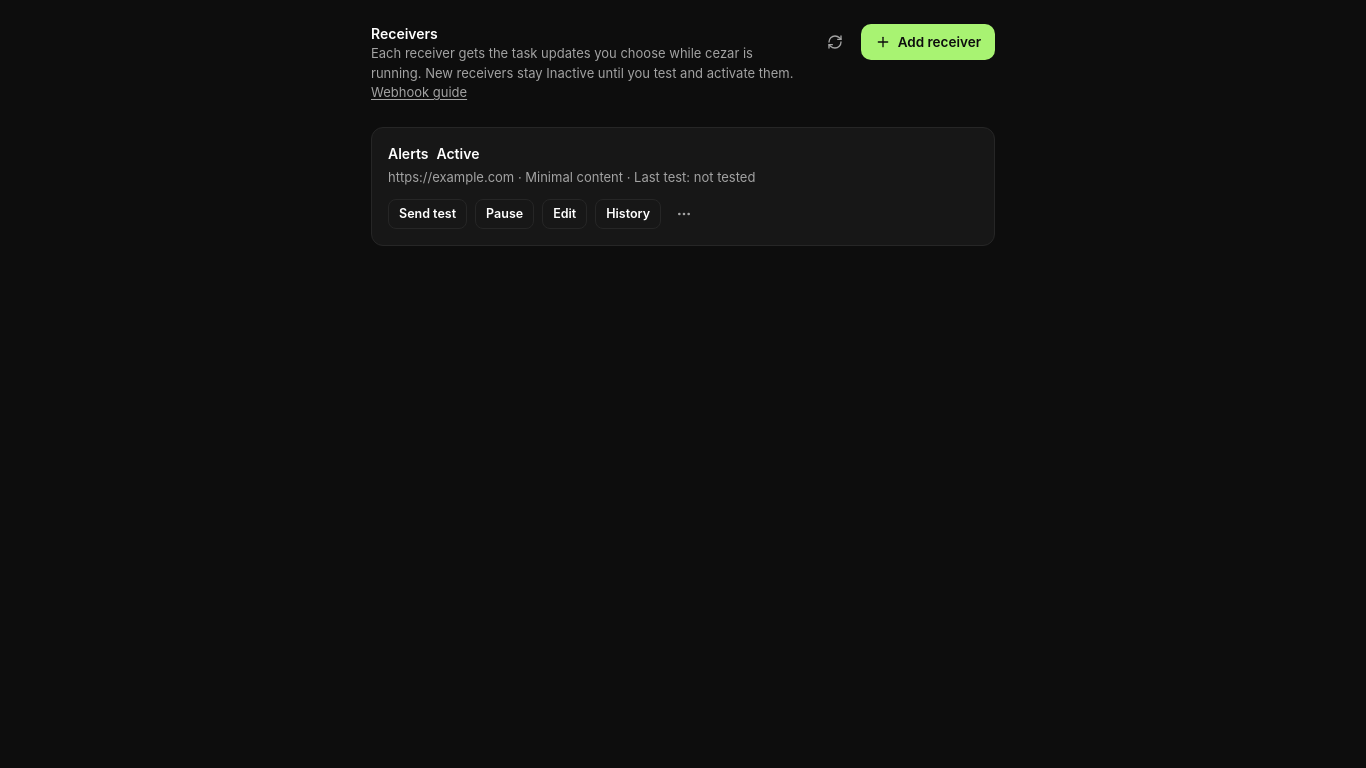
Test case: project webhook settings › shows changed field names and revision in Activity
Click the button "History". click: (628, 214)
box: left=595, top=199, right=661, bottom=229
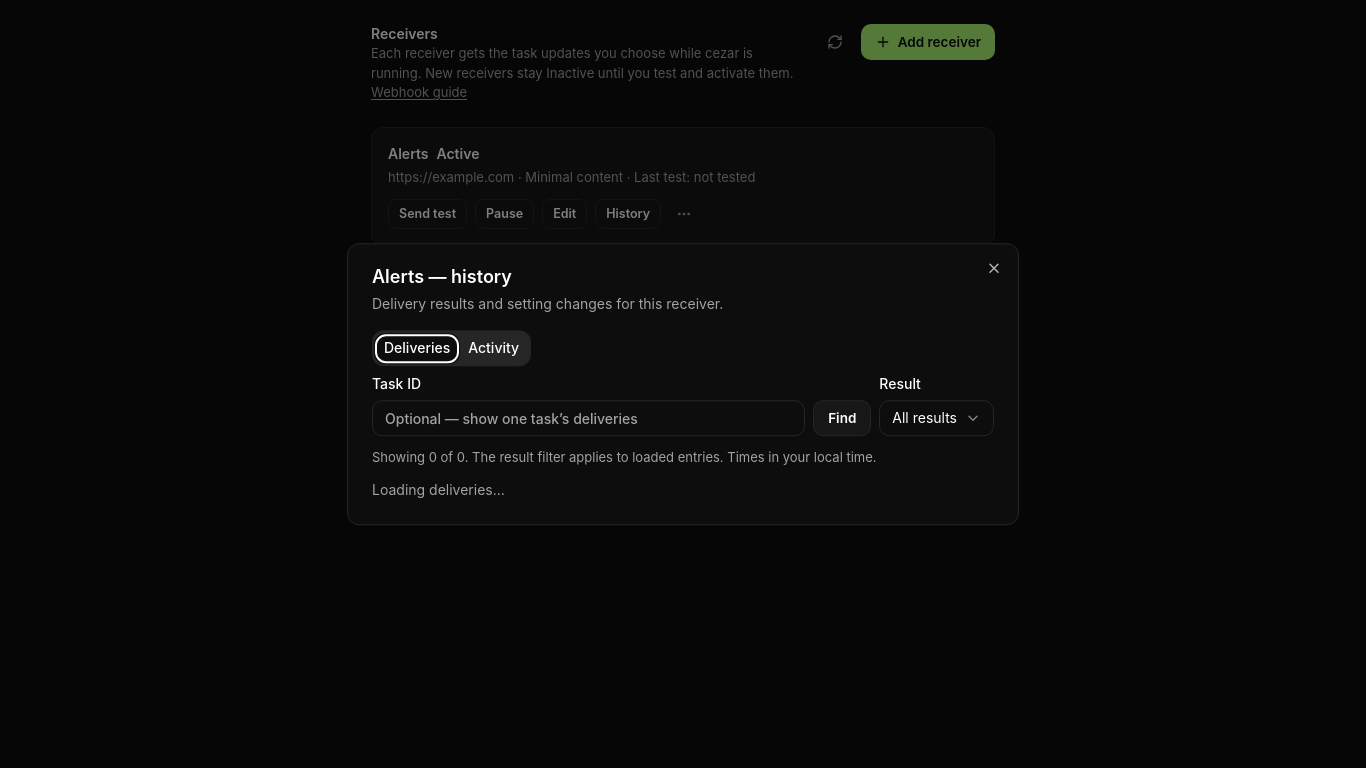
Press the mouse on the tab "Activity" at (494, 348), box left=459, top=334, right=528, bottom=363
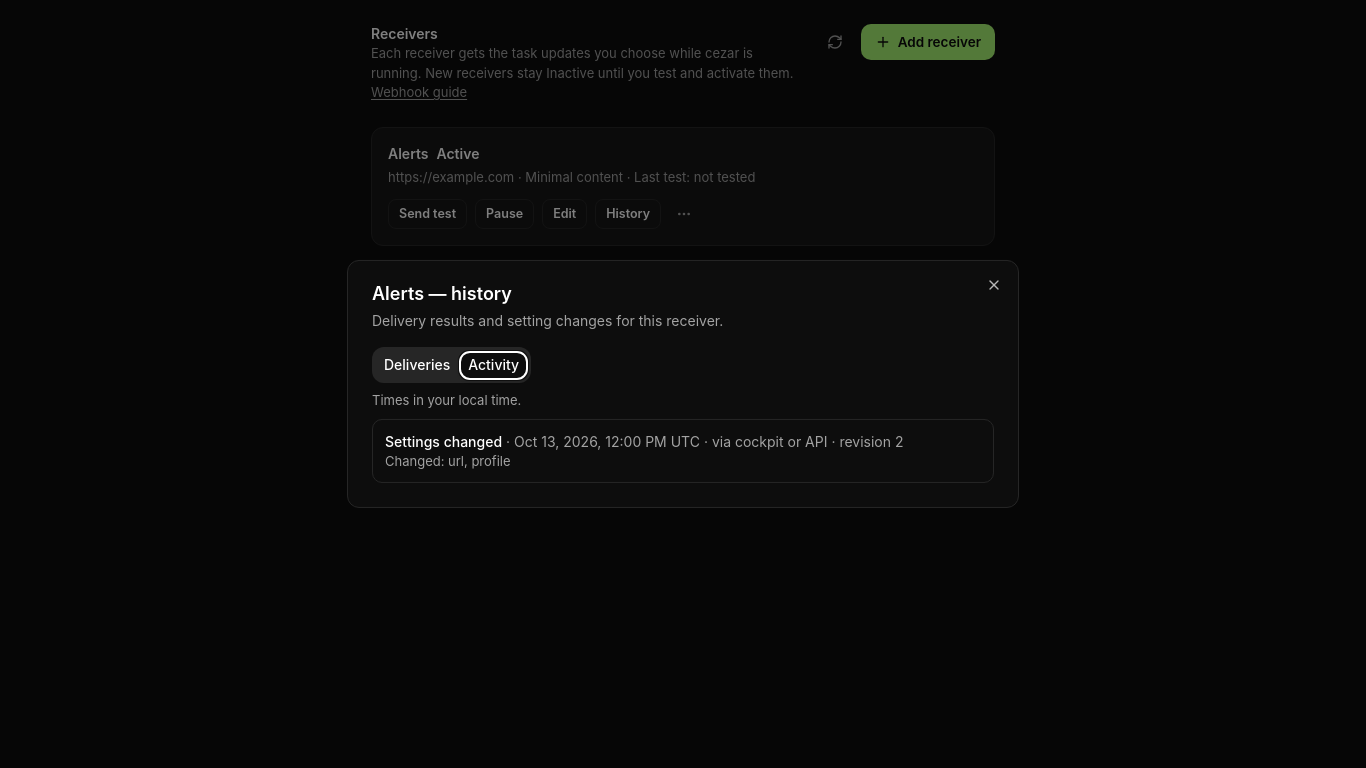
Expected: the text "Changed: url, profile" is shown, left=385, top=452, right=510, bottom=468
Expected: the text "revision 2" is shown, left=828, top=432, right=904, bottom=450
